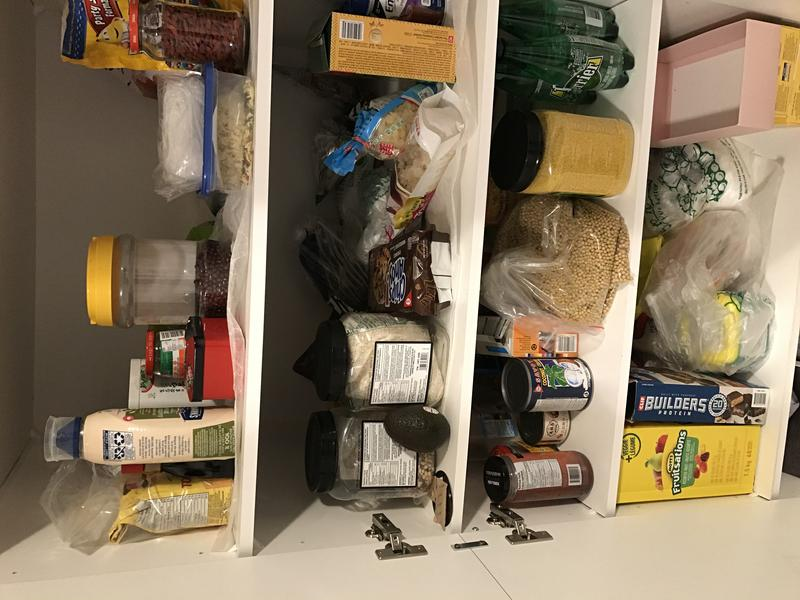avacado: (378, 398, 453, 455)
